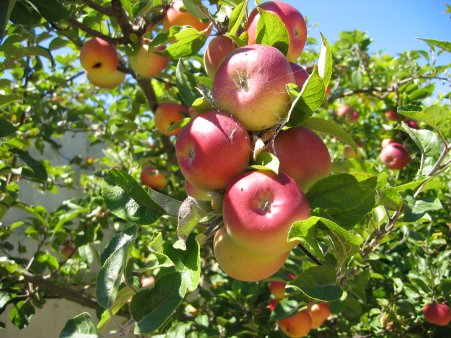apple: (177, 112, 254, 191)
obscured(0)_apple: (222, 167, 311, 255), (213, 44, 297, 131)
obscured(2)_apple: (254, 127, 331, 196), (212, 227, 290, 281)
